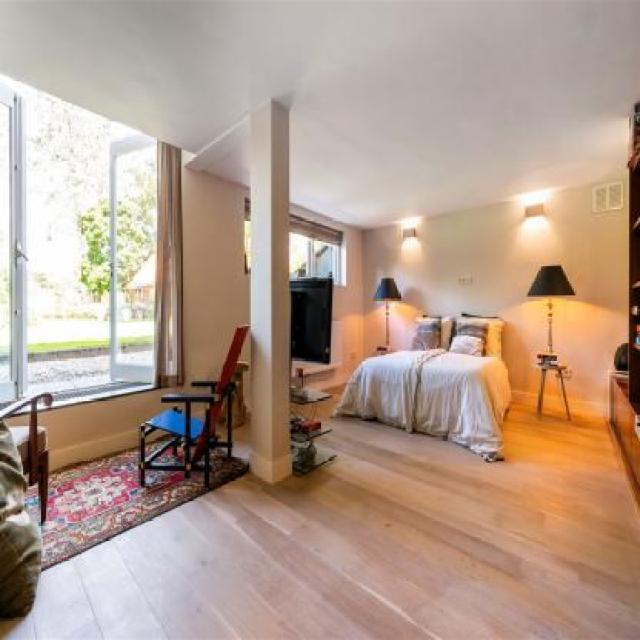floor: (0, 406, 640, 640)
